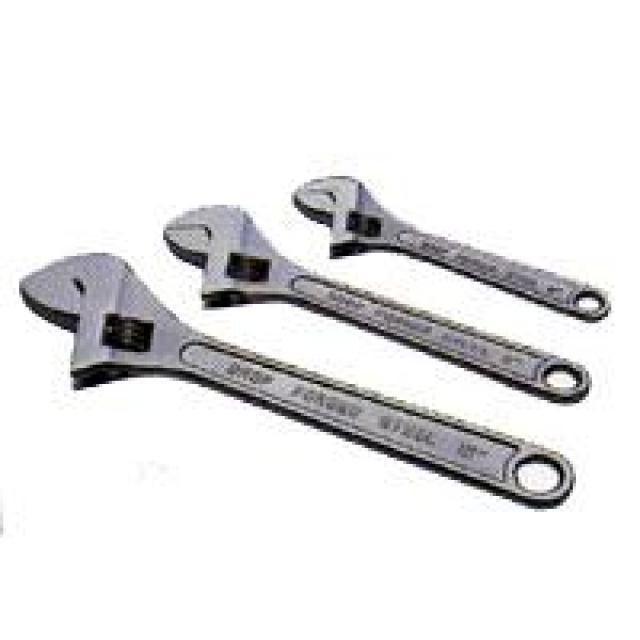wrench: (13, 246, 584, 514), (154, 196, 595, 406), (286, 170, 614, 323)
